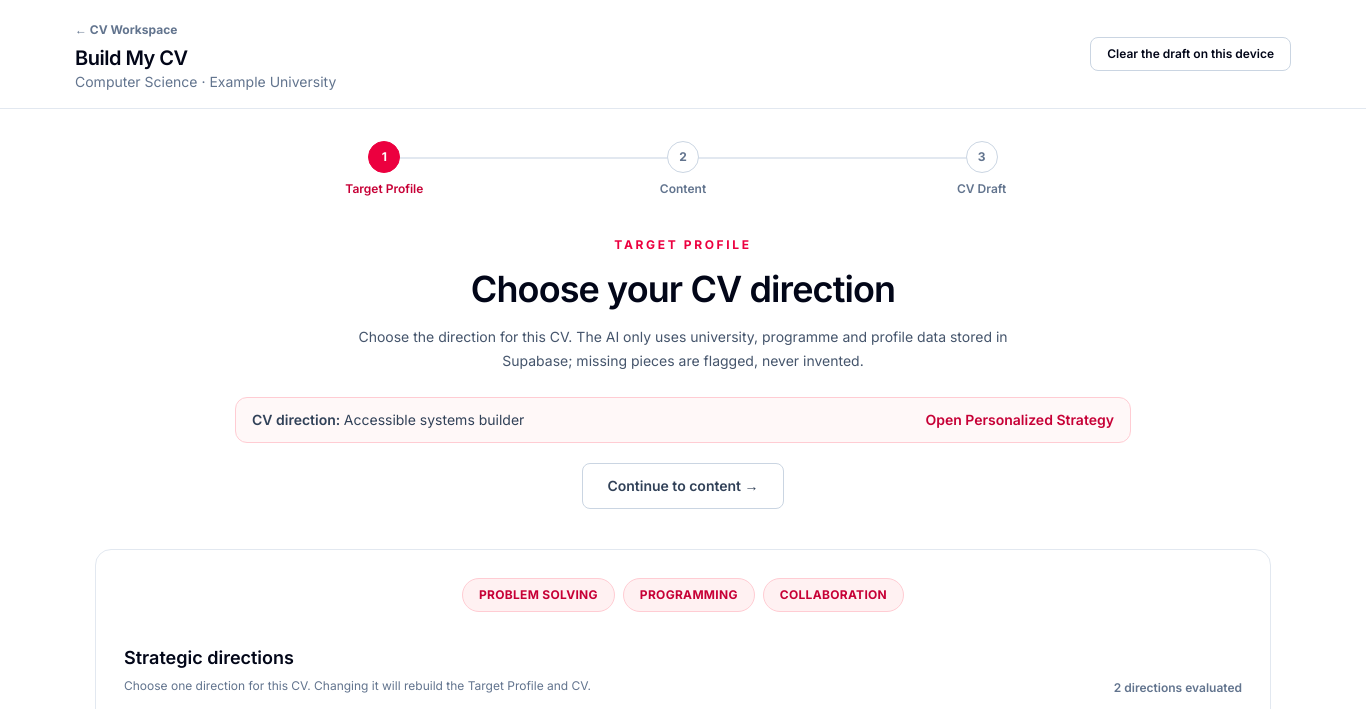
CvBuilderWorkspace › locks the selected starting format and finishes on the CV Draft step
Click the button "3 CV Draft". click: [982, 169]
box: [832,141,1131,197]
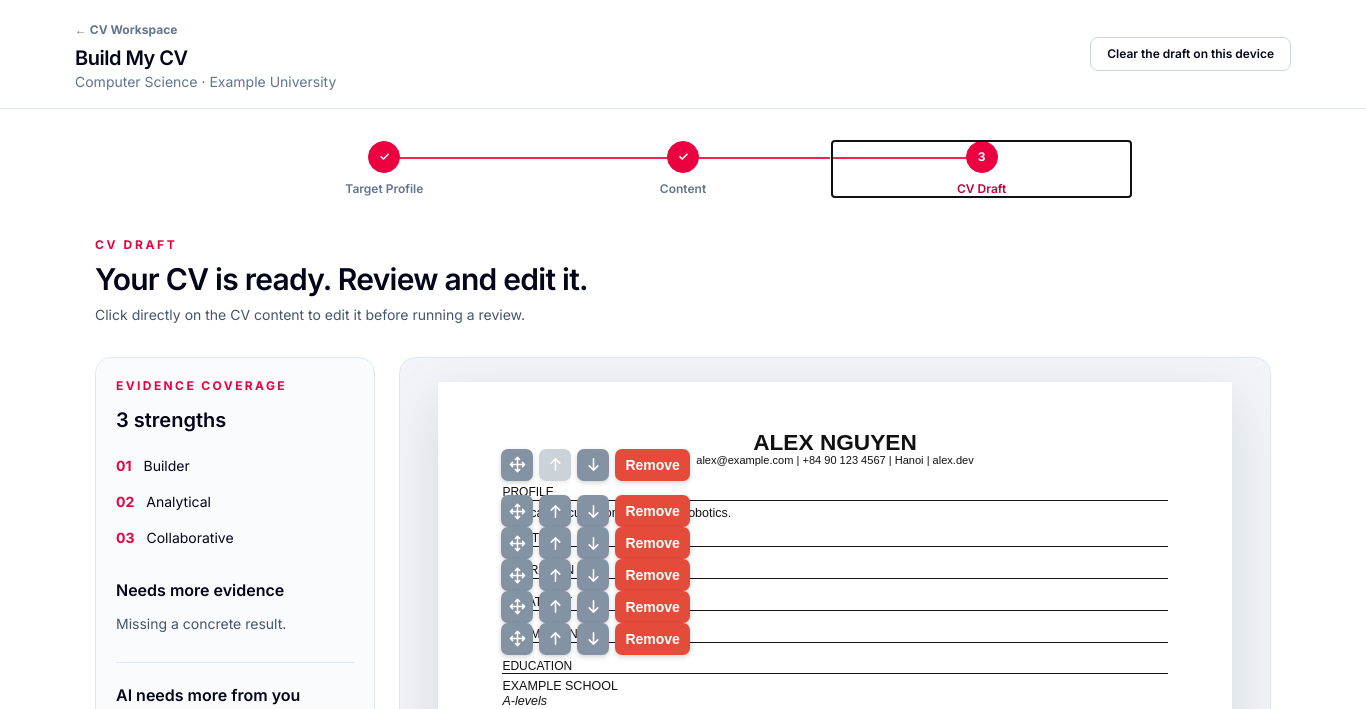
Expected: the heading "Aspiration" is shown, [502,564,1168,579]
Expected: the heading "Creativity" is shown, [502,596,1168,611]
Expected: the heading "Commitment" is shown, [502,628,1168,643]
